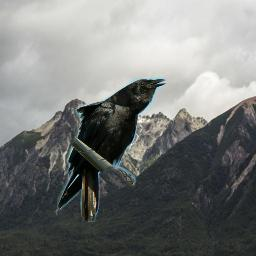Crow: (57, 77, 166, 223)
